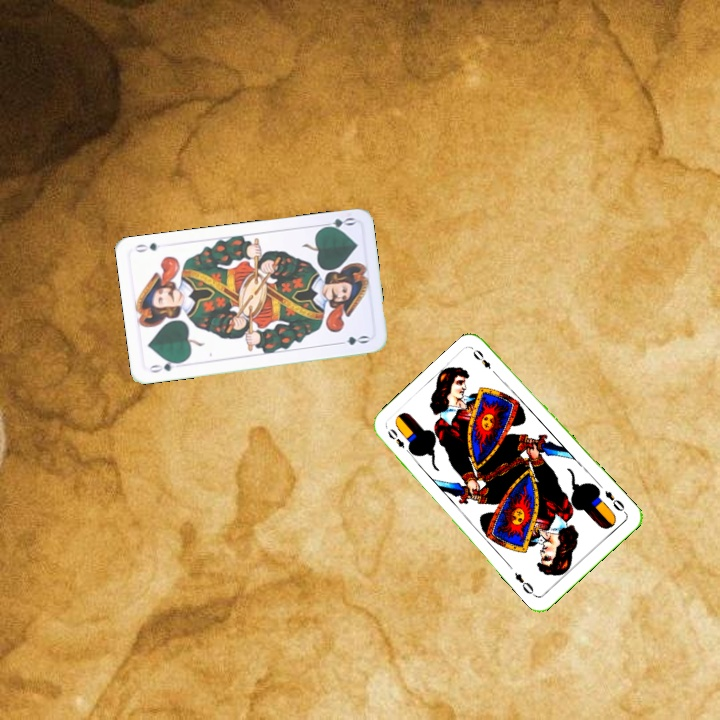EO: (383, 425, 415, 458), (600, 486, 629, 516)
GO: (317, 213, 357, 233), (145, 356, 185, 375)
